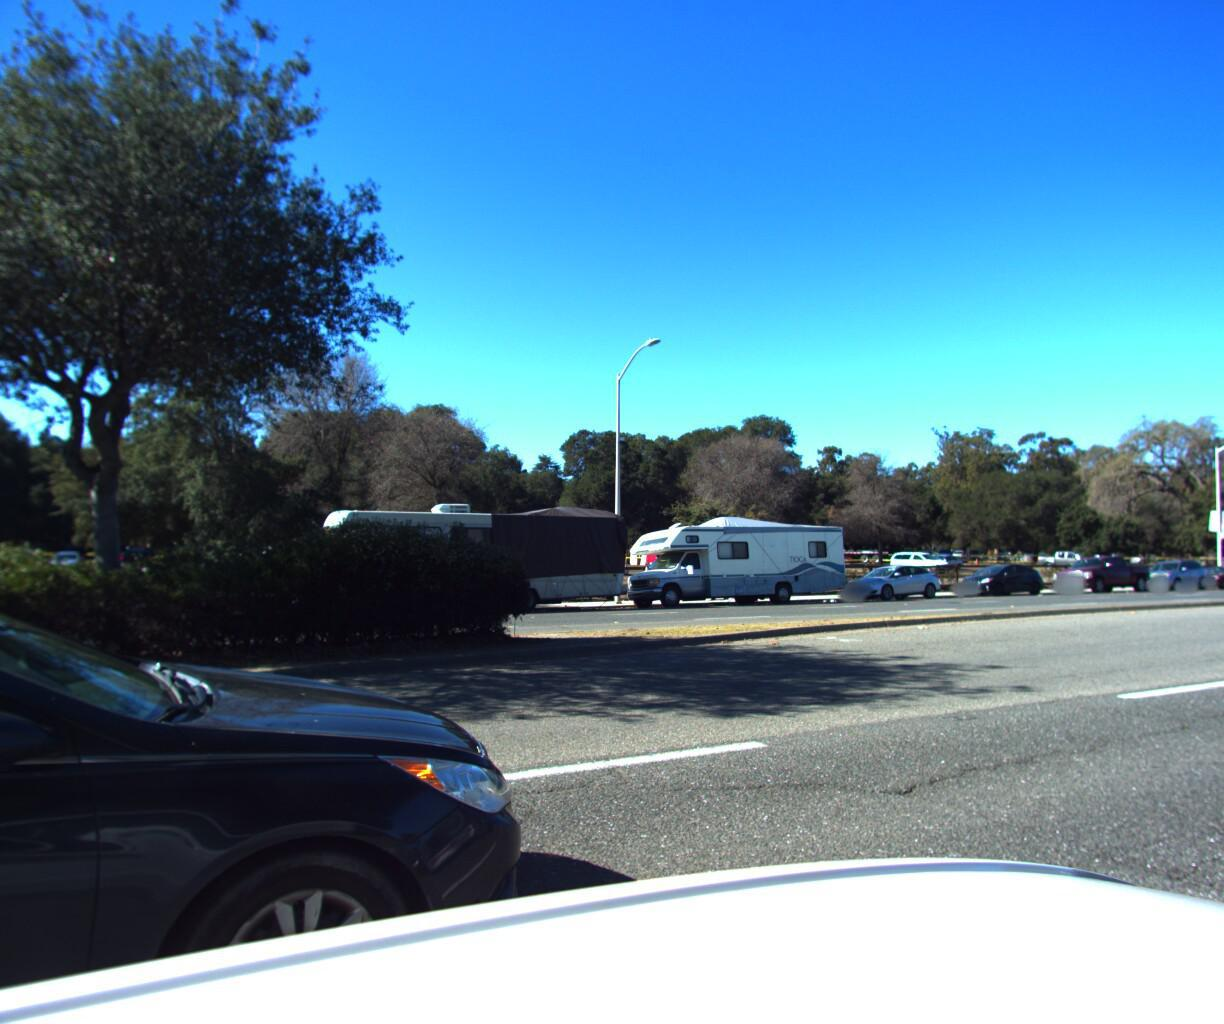car: (0, 566, 557, 1024), (829, 560, 944, 601), (1040, 551, 1147, 594), (945, 559, 1043, 598), (1121, 554, 1207, 590), (1172, 560, 1224, 588)
other_vehicle: (300, 493, 630, 623), (609, 511, 851, 613)
